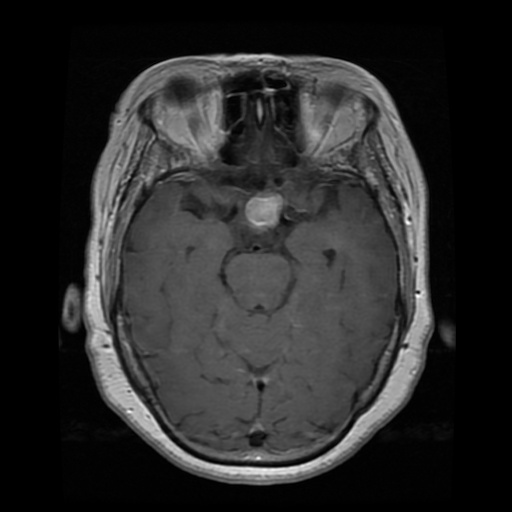pituitary: (245, 193, 280, 227)
